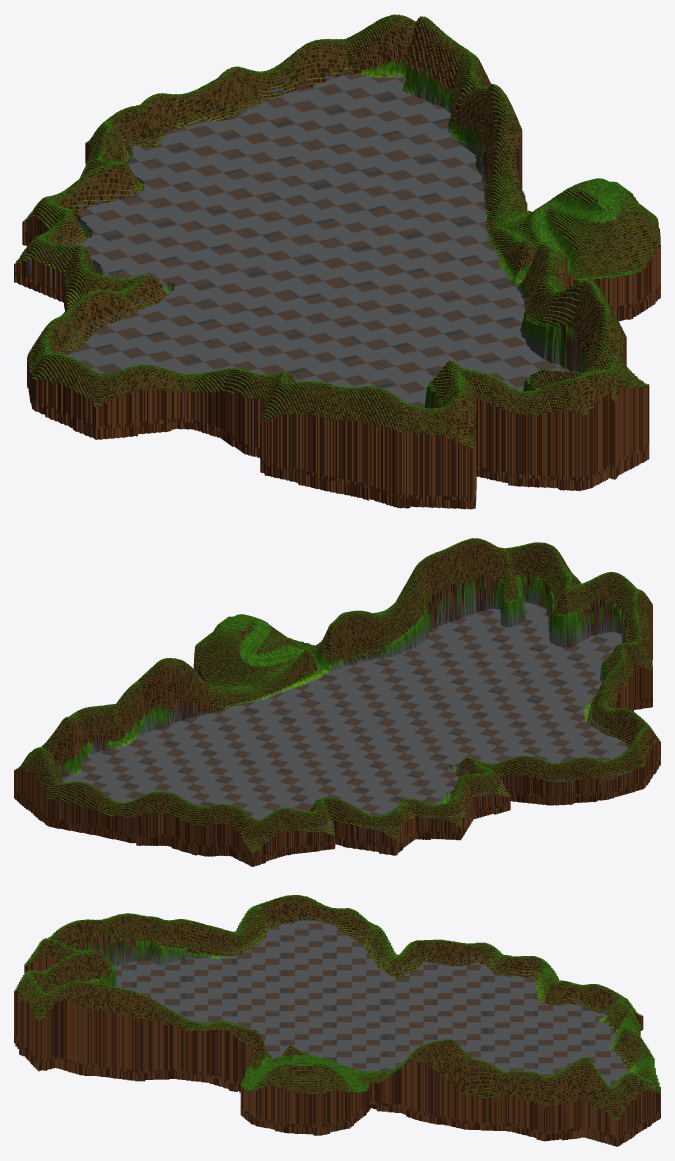
The model's file is SM_Mapa_081.fbx.
The picture shows the model from 3 angles, top to bottom: view 1: azimuth 30°, elevation 25°; view 2: azimuth 150°, elevation 25°; view 3: azimuth 270°, elevation 25°; orthographic projection. The views are drawn at different scales.
Visible parts, largest first — view 1: SM_Mapa_081; view 2: SM_Mapa_081; view 3: SM_Mapa_081.
Part boxes in pixels (left/top/right/bottom): SM_Mapa_081: left=14, top=14, right=660, bottom=509; SM_Mapa_081: left=14, top=538, right=660, bottom=866; SM_Mapa_081: left=14, top=895, right=660, bottom=1146.
Size of the model in its own units: 4776 by 6096 by 915.
